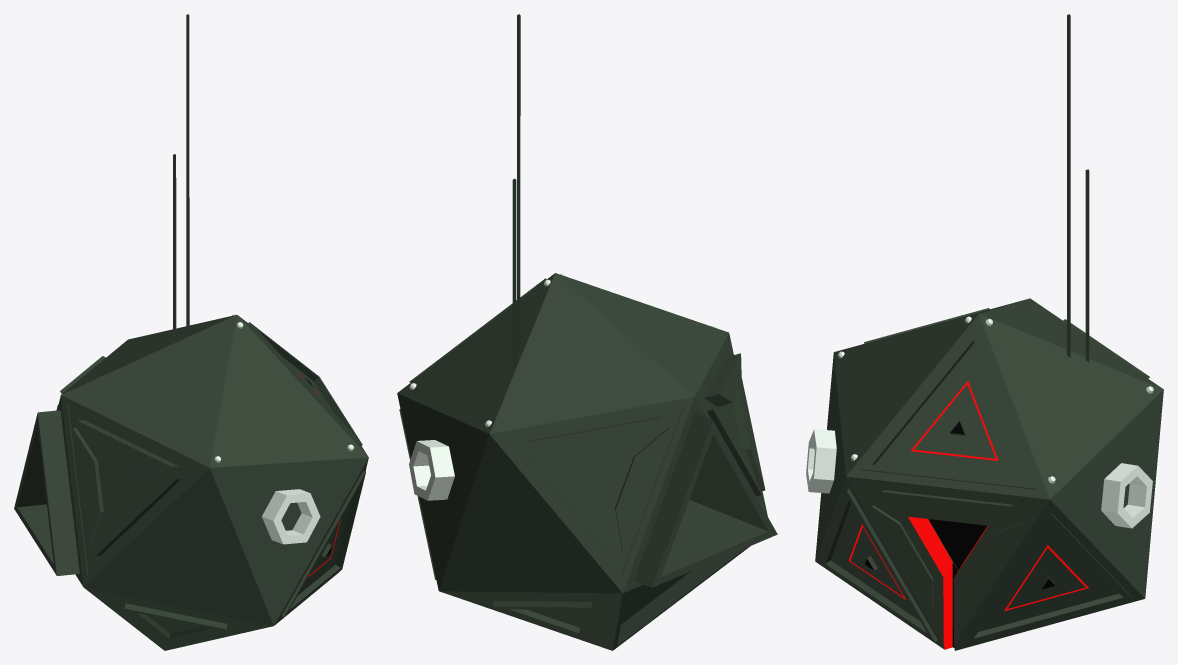
The model's file is Sentinel Floating Robot.fbx.
3 renders of one model, left to right at view 1: azimuth 30°, elevation 25°; view 2: azimuth 150°, elevation 25°; view 3: azimuth 270°, elevation 25°, orthographic. The views are drawn at different scales.
Visible parts, largest first — view 1: most, Tube, Cylinder, Cylinder_1; view 2: most, Tube, Cylinder, Cylinder_1; view 3: most, Tube, black_triangles, Cylinder, Cylinder_1, cutout.
Part boxes in pixels (x1=…): most: x1=14, y1=315, x2=368, y2=650; Tube: x1=262, y1=489, x2=320, y2=544; Cylinder: x1=186, y1=14, x2=189, y2=325; Cylinder_1: x1=173, y1=154, x2=176, y2=329; most: x1=397, y1=273, x2=777, y2=650; Tube: x1=409, y1=440, x2=454, y2=500; Cylinder: x1=517, y1=14, x2=520, y2=354; Cylinder_1: x1=512, y1=178, x2=516, y2=369; most: x1=815, y1=298, x2=1163, y2=650; Tube: x1=806, y1=429, x2=1152, y2=528; black_triangles: x1=848, y1=381, x2=1088, y2=611; Cylinder: x1=1067, y1=14, x2=1070, y2=357; Cylinder_1: x1=1085, y1=169, x2=1089, y2=362; cutout: x1=943, y1=562, x2=960, y2=649.
Bounding box in the file's own units: 183 × 340 × 169.
